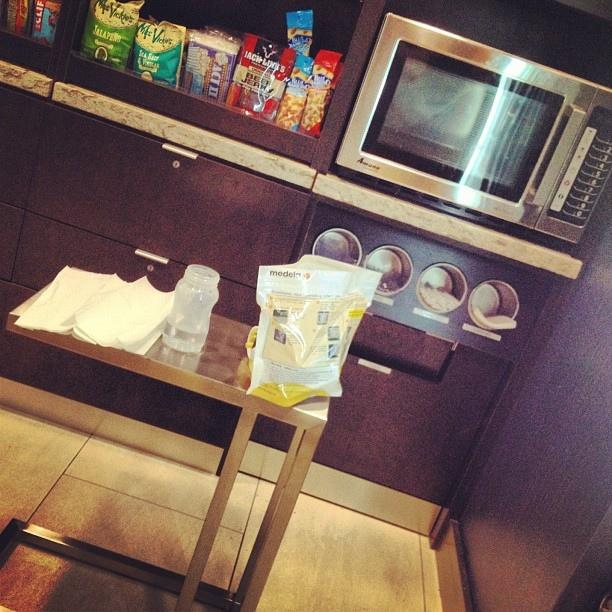almond: (286, 104, 292, 110), (314, 98, 320, 104)
